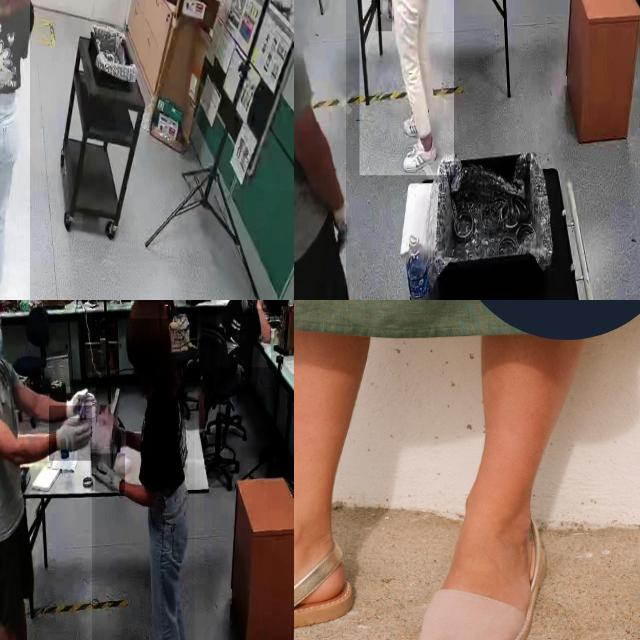Sandals: (410, 495, 544, 640)
face_mask: (0, 320, 8, 370), (240, 300, 252, 316)
hand_glove: (49, 406, 93, 460), (91, 454, 125, 492), (66, 387, 95, 418), (375, 0, 392, 32)
hand_noglove: (255, 300, 264, 309)
head_nohelmet: (126, 300, 169, 319)
person: (95, 300, 195, 640), (0, 300, 92, 640), (359, 0, 454, 176), (0, 0, 30, 300), (216, 300, 271, 368)
shoes: (400, 134, 440, 179), (398, 105, 428, 141)
